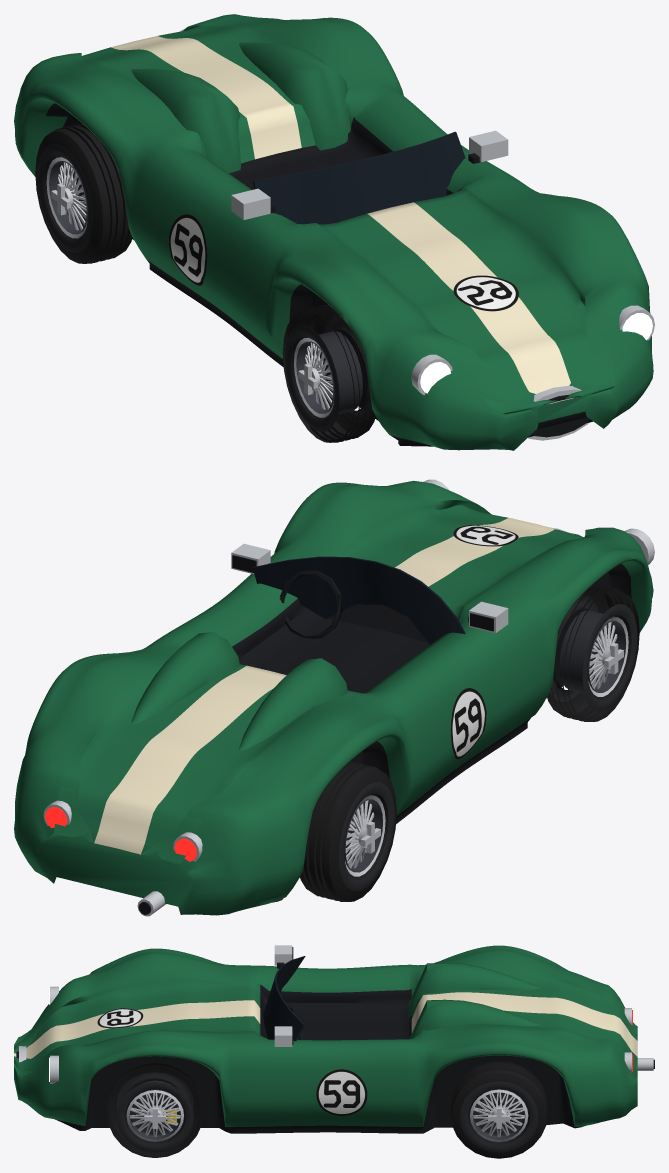
Rendered from retro.glb.
The picture shows the model from 3 angles, top to bottom: view 1: azimuth 30°, elevation 25°; view 2: azimuth 150°, elevation 25°; view 3: azimuth 270°, elevation 25°; orthographic projection. The views are drawn at different scales.
Parts seen in each view (by area): view 1: body, wheel_RR, wheel_FR; view 2: body, wheel_RR, wheel_FR; view 3: body, wheel_RL, wheel_FL.
Boxes of the visible parts, <box> form: body: <box>14,14,654,450</box>; wheel_RR: <box>35,123,132,263</box>; wheel_FR: <box>282,305,375,442</box>; body: <box>14,479,654,916</box>; wheel_RR: <box>300,761,396,901</box>; wheel_FR: <box>547,584,639,721</box>; body: <box>14,945,654,1133</box>; wheel_RL: <box>450,1061,547,1158</box>; wheel_FL: <box>107,1063,203,1157</box>.
Size of the model in its own units: 1.75 by 0.98 by 4.4.
Materials: 14 (1 with a texture image).
